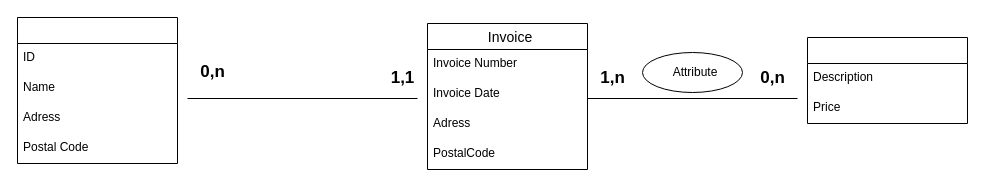
This 985x190 diagram has some shape labels left out. The box of each missing label's shape, as (x1, y1, x2, y2) in pixels:
Client: (16, 16, 178, 164)
Product: (806, 36, 968, 124)
